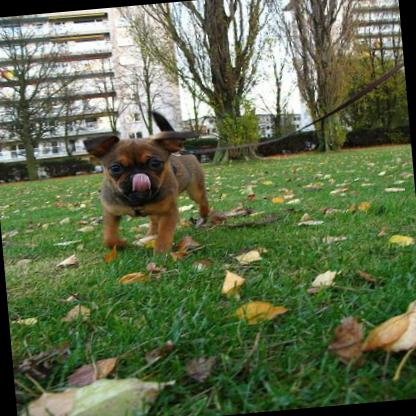Brabancon_griffon: (78, 120, 224, 262)
